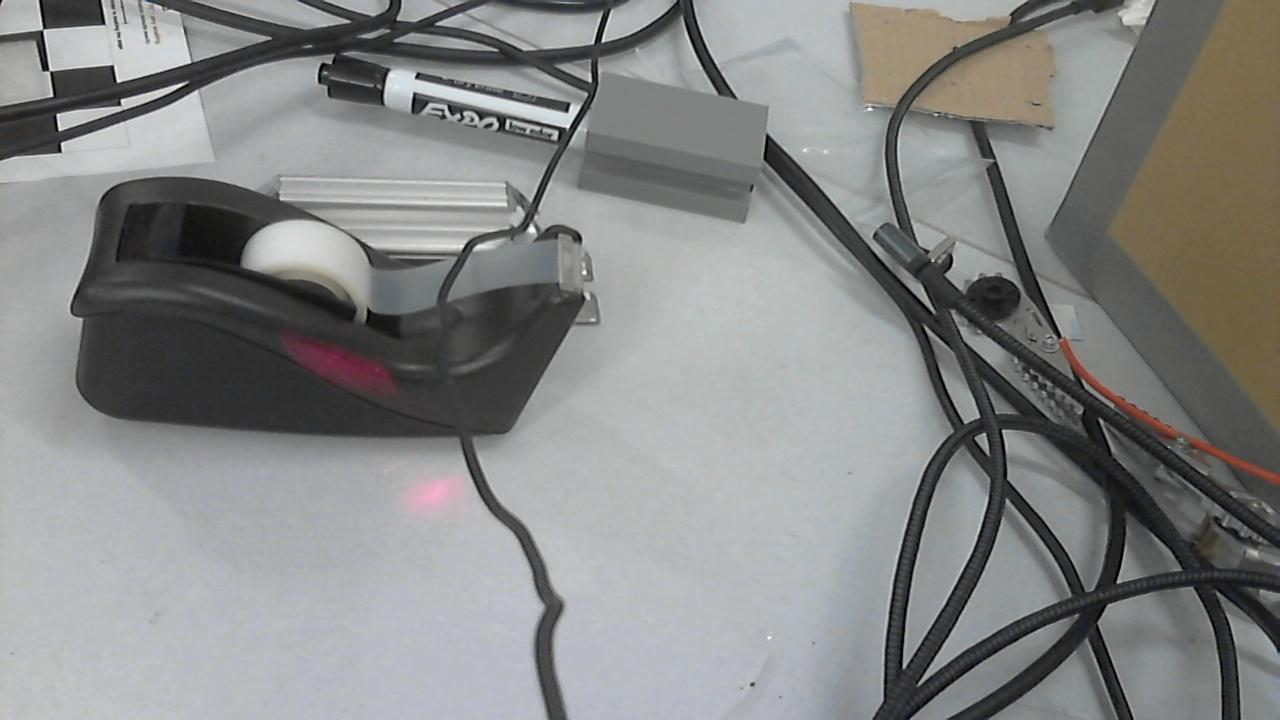Object desktop tape dispenser - Material plastic - Pdfname 8pMd29OsIRjD: (268, 315, 416, 403)
